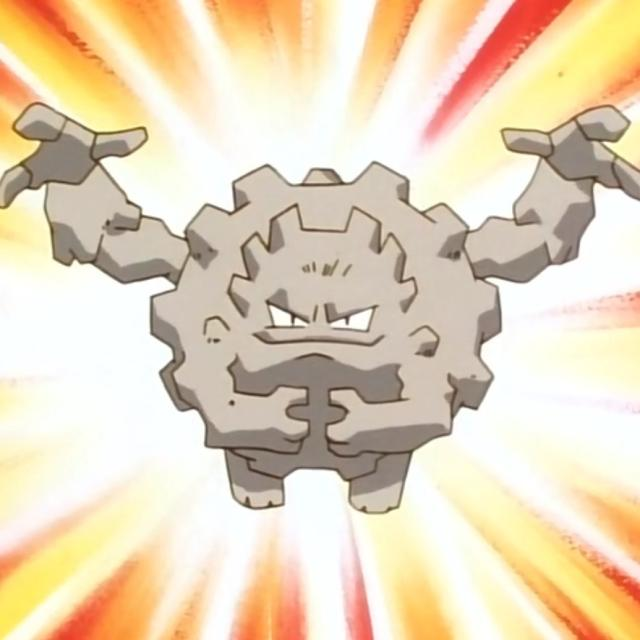Graveler: (2, 100, 640, 516)
